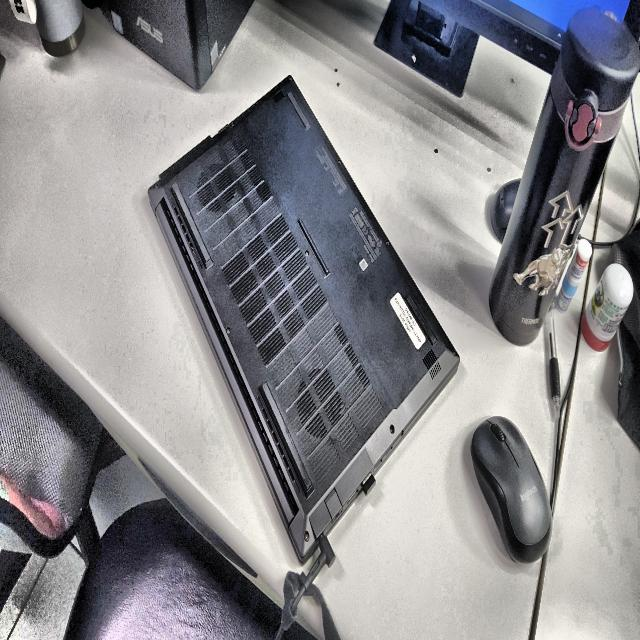Laptop: (148, 76, 460, 563)
MOUSE: (471, 416, 552, 563)
Screen: (428, 0, 636, 73)
